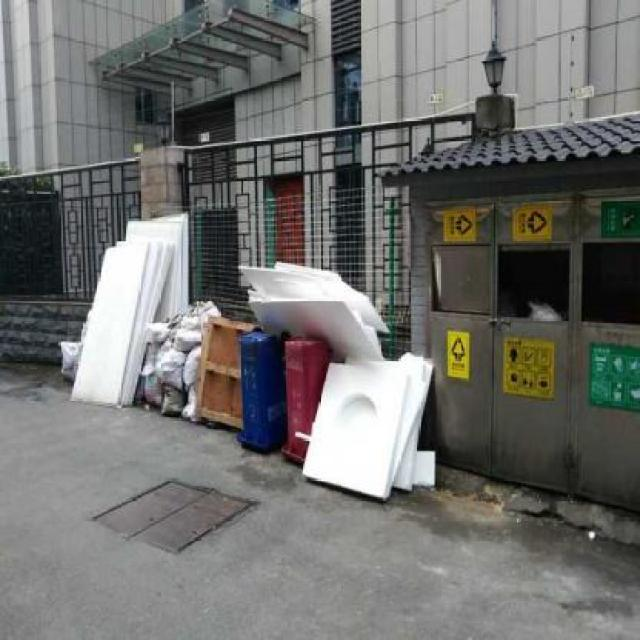garbage: (206, 294, 437, 502), (94, 223, 202, 413), (225, 257, 372, 303), (55, 333, 98, 379)
